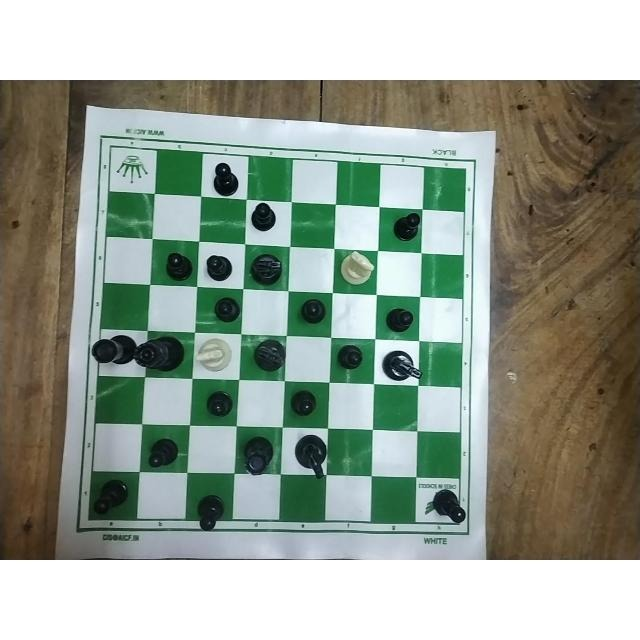black-knight: (292, 430, 331, 484), (378, 349, 426, 386), (248, 335, 288, 372), (249, 252, 287, 287)
black-pawn: (427, 484, 471, 528), (91, 477, 132, 516), (194, 492, 228, 532), (209, 157, 241, 198), (285, 385, 319, 418), (146, 436, 181, 468), (295, 294, 328, 327), (204, 388, 236, 420), (253, 199, 283, 233), (210, 293, 242, 323), (384, 305, 418, 333), (393, 209, 421, 243), (164, 250, 193, 282), (334, 342, 367, 370), (207, 254, 233, 283)
black-queen: (134, 332, 188, 378)
black-rook: (236, 431, 275, 478), (89, 331, 133, 368)
white-knight: (193, 334, 235, 374), (333, 249, 377, 285)
